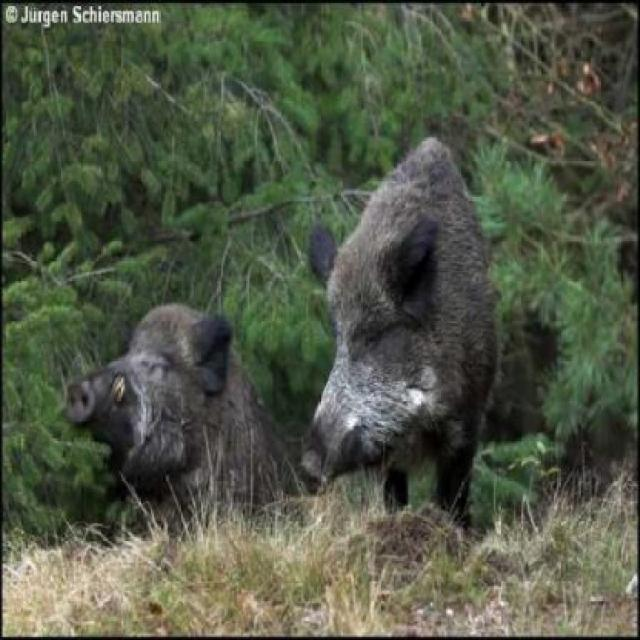pig: (306, 128, 592, 526), (39, 255, 288, 477)
